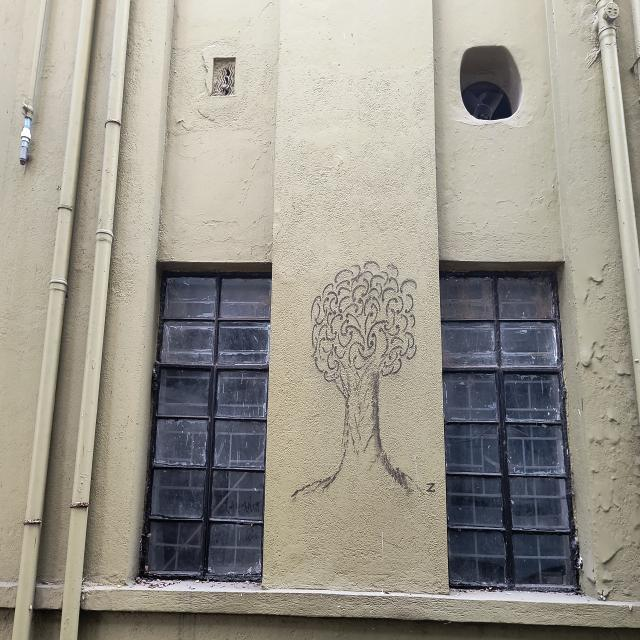peeling: (571, 260, 640, 596)
